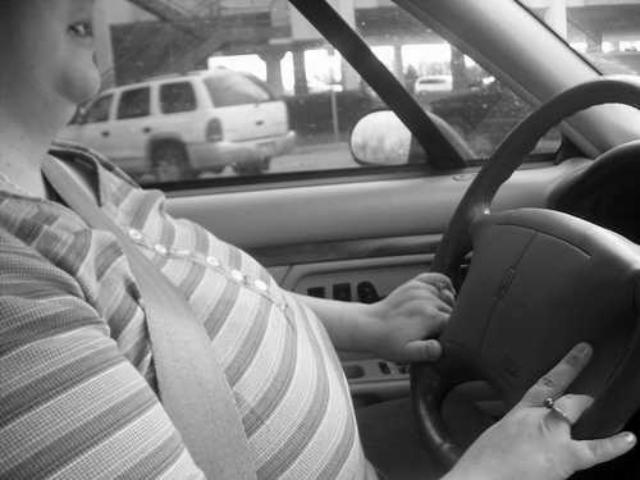Seatbelt: (34, 148, 264, 480)
